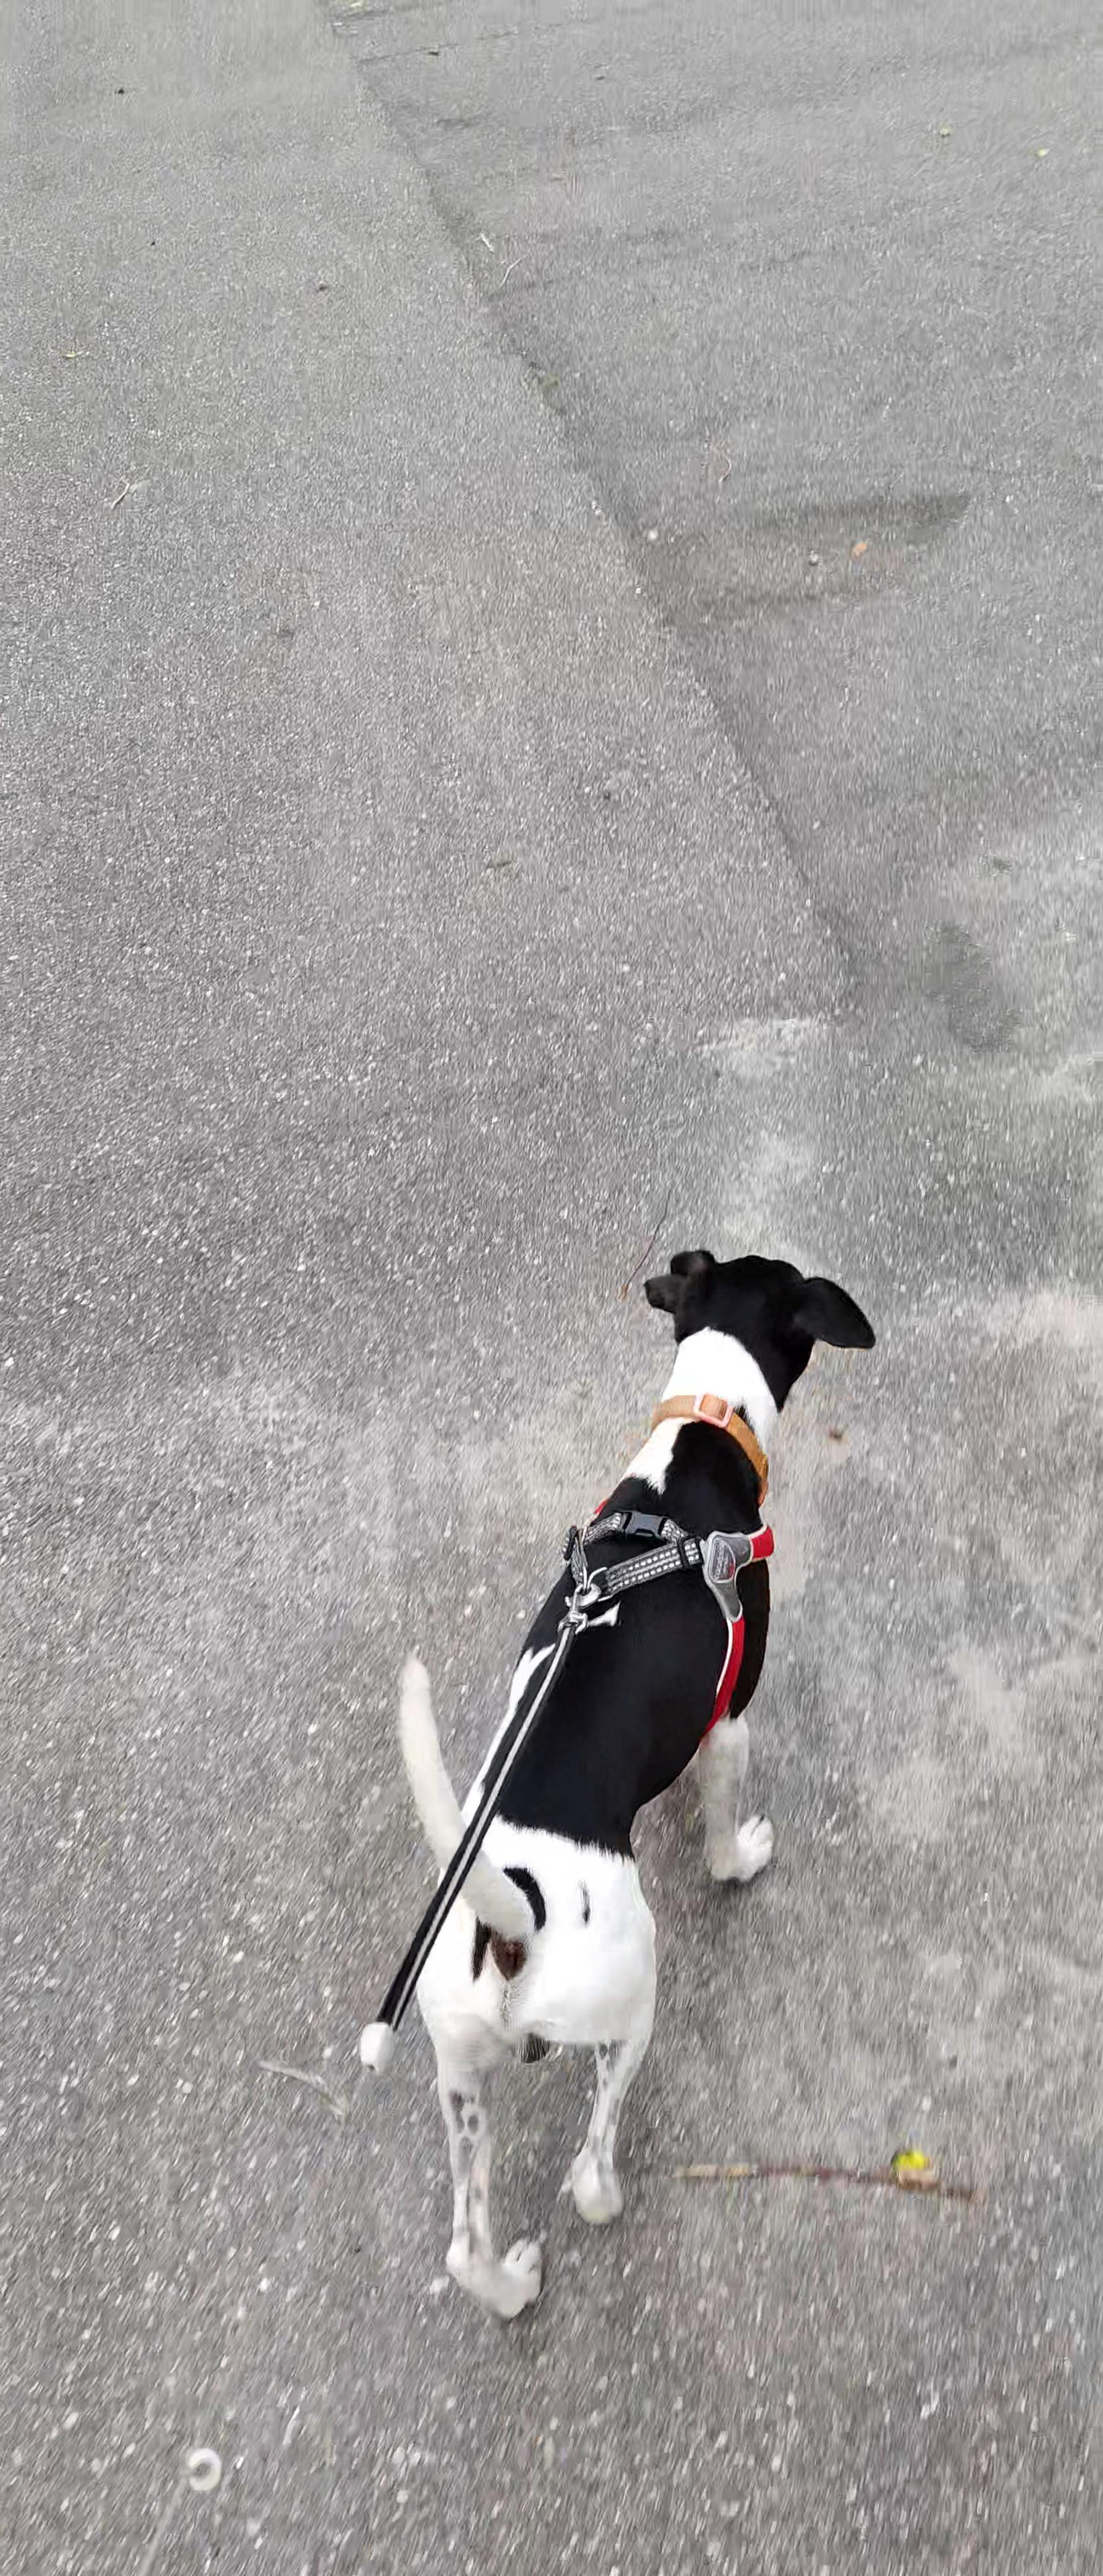Dog: (311, 1240, 879, 2333)
